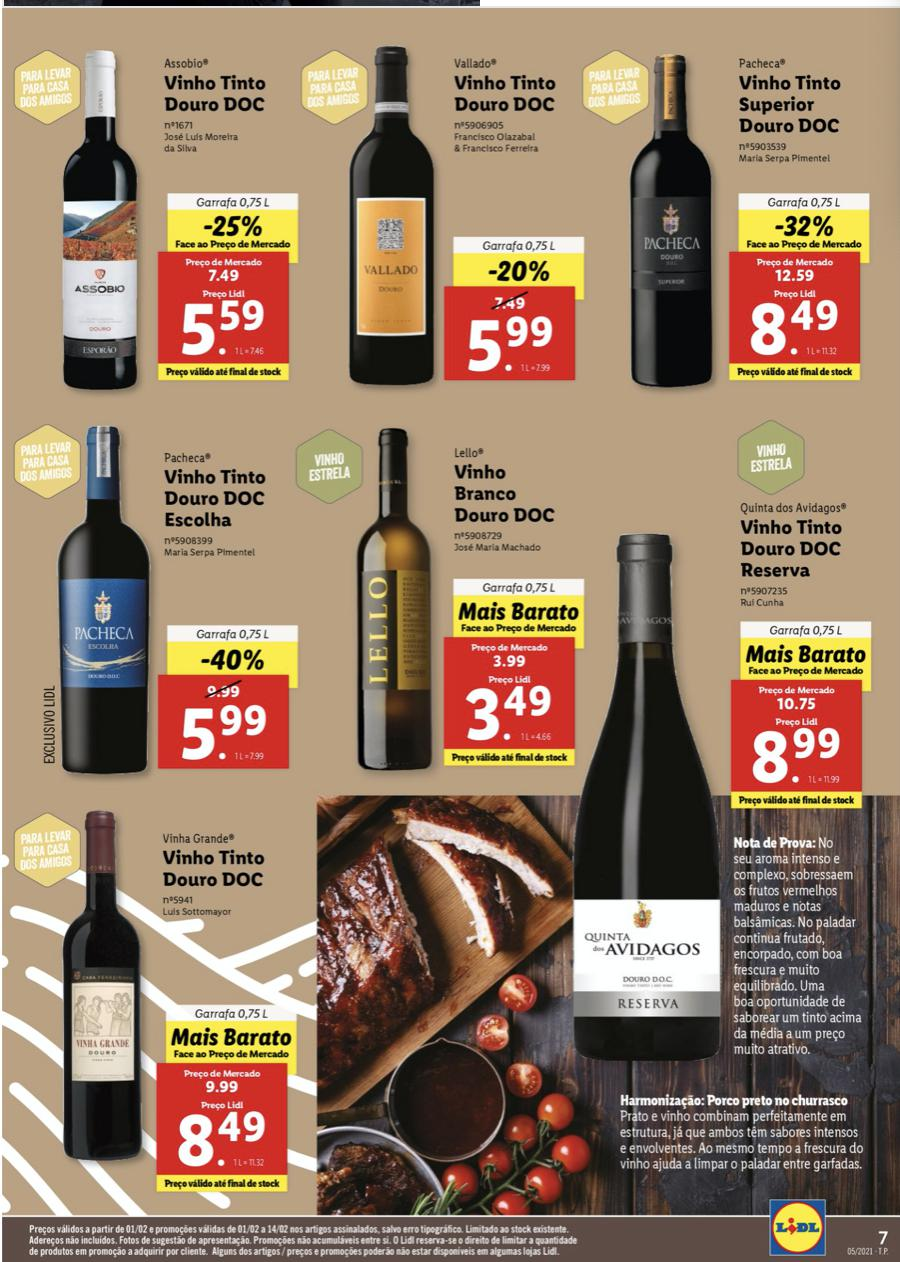name: (729, 67, 857, 138), (439, 457, 560, 527), (151, 461, 273, 530), (735, 514, 850, 585), (151, 844, 275, 891), (164, 71, 276, 117), (450, 71, 567, 114)
price: (179, 294, 279, 363), (746, 296, 851, 358), (465, 683, 565, 744), (164, 1110, 271, 1167), (750, 725, 845, 788), (460, 314, 559, 374), (181, 705, 271, 764)
product: (568, 419, 873, 1064), (9, 799, 298, 1203), (292, 403, 582, 777), (9, 403, 292, 786), (1, 36, 309, 386), (304, 27, 582, 400), (615, 33, 889, 391)
promotion: (770, 210, 839, 244), (201, 647, 276, 677), (198, 211, 265, 239), (485, 260, 553, 286)
